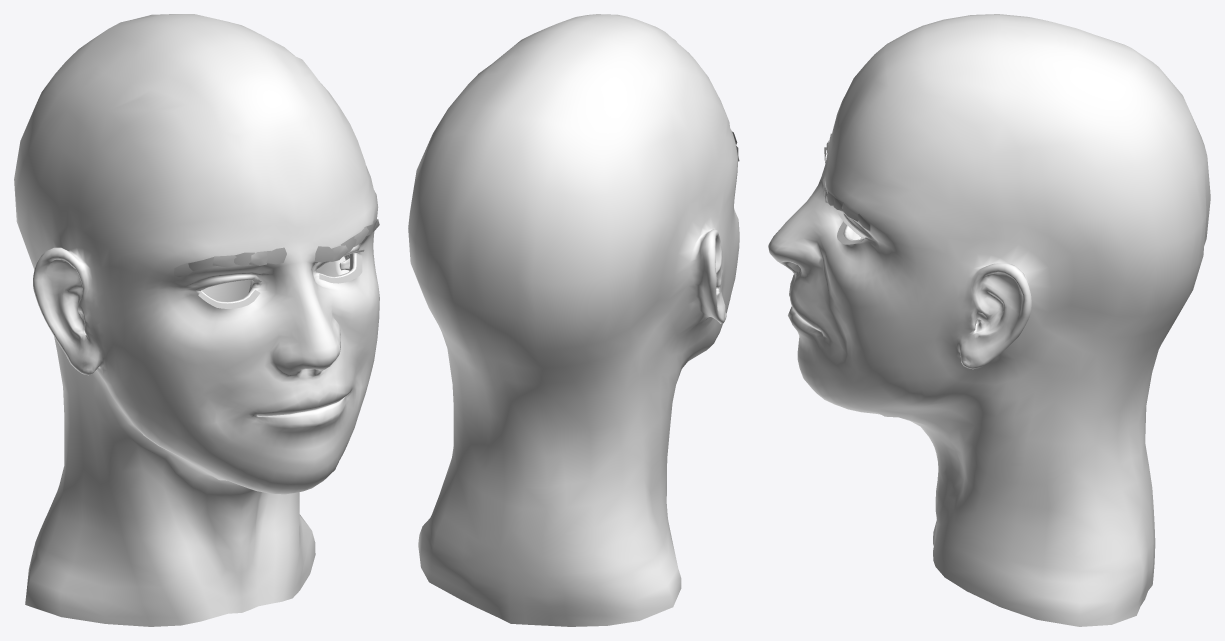
File: noseSneerLeft.obj
3 views of the same model, side by side, from view 1: azimuth 30°, elevation 25°; view 2: azimuth 150°, elevation 25°; view 3: azimuth 270°, elevation 25° (orthographic). The views are drawn at different scales.
Parts seen in each view (by area): view 1: FaceMesh_Plane.003; view 2: FaceMesh_Plane.003; view 3: FaceMesh_Plane.003.
Boxes of the visible parts, bbox=[...] form: FaceMesh_Plane.003: bbox=[14, 14, 379, 626]; FaceMesh_Plane.003: bbox=[408, 14, 739, 626]; FaceMesh_Plane.003: bbox=[768, 14, 1210, 626].
Size of the model in its own units: 1.54 by 2.71 by 1.94.
5 materials, 1 textured.
